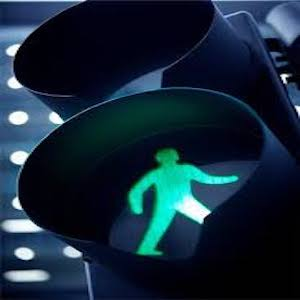green: (115, 141, 234, 256)
